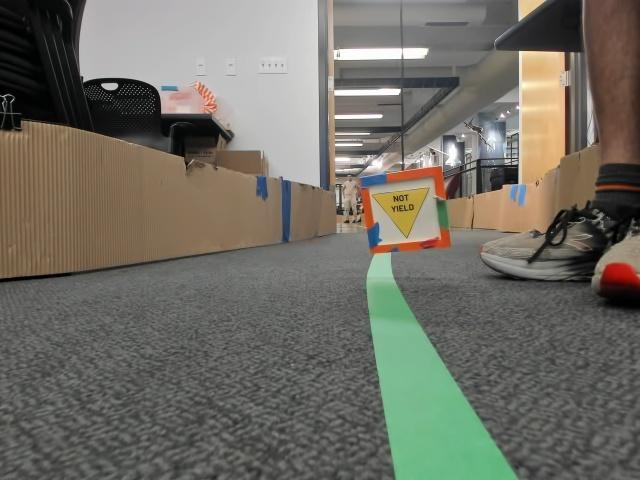Do Not Yield: (371, 194, 428, 240)
